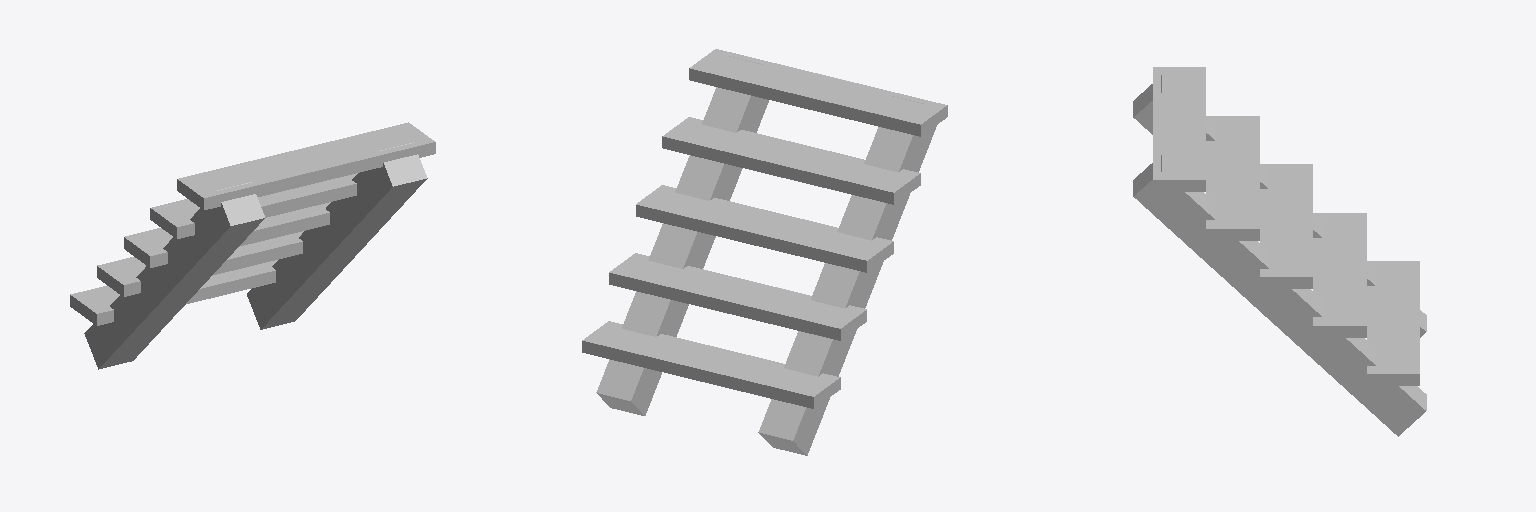
File: Prop_Docks_Steps.obj
3 views of the same model, side by side, from view 1: azimuth 30°, elevation 25°; view 2: azimuth 150°, elevation 25°; view 3: azimuth 270°, elevation 25° (orthographic).
Parts seen in each view (by area): view 1: object1, object6, object5, object7, object3, object4, object2; view 2: object1, object6, object5, object4, object7, object3, object2; view 3: object6, object5, object2, object7, object4, object3, object1.
Part boxes in pixels (x1,y1,x2,y2): object1: (84,182,264,369); object6: (247,142,427,329); object5: (177,122,435,209); object7: (150,173,357,238); object3: (124,202,330,267); object4: (70,260,277,325); object2: (97,231,303,296); object1: (758,96,936,455); object6: (596,56,768,415); object5: (689,49,947,136); object4: (582,321,840,408); object7: (662,117,920,204); object3: (636,185,893,272); object2: (609,253,866,340); object6: (1133,155,1426,436); object5: (1153,67,1205,191); object2: (1313,213,1366,337); object7: (1206,116,1259,240); object4: (1367,261,1419,385); object3: (1260,164,1312,288); object1: (1133,75,1426,337).
Size of the model in its own units: 1 by 1.1 by 1.1.